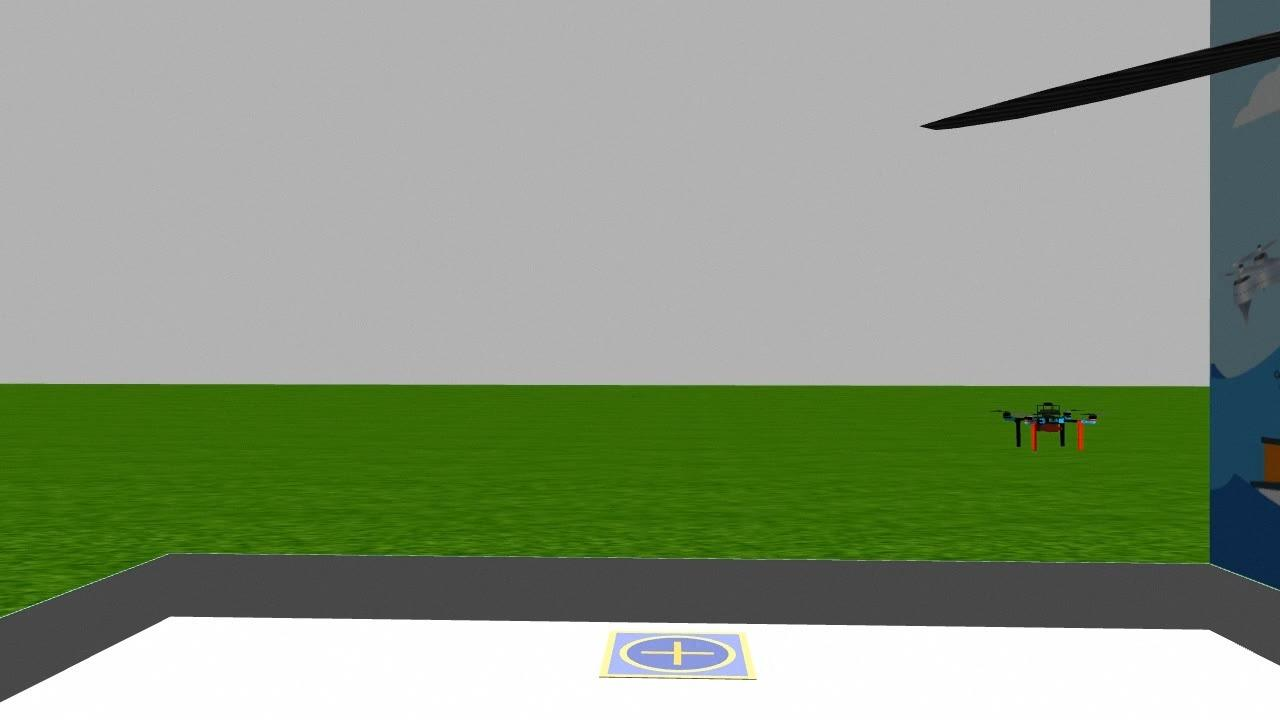UAV: (996, 391, 1104, 463)
